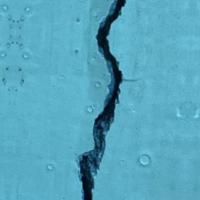crack: (74, 0, 141, 199)
